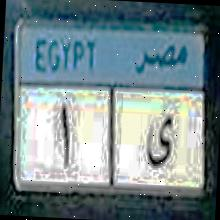1: (54, 100, 75, 168)
yaa: (143, 107, 175, 172)
